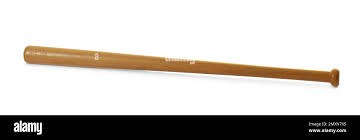baseball bat: (22, 45, 340, 87)
